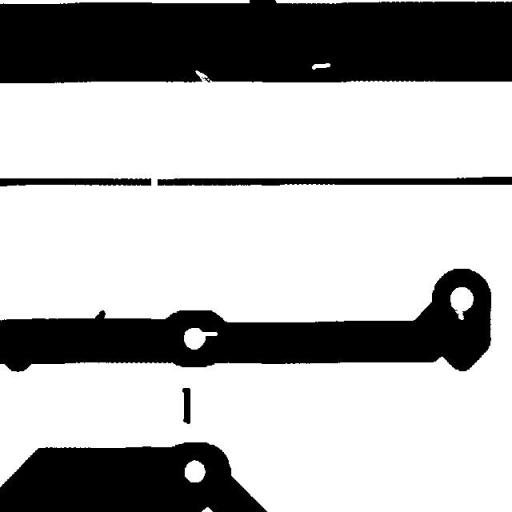copper: (174, 380, 198, 431)
mousebite: (187, 62, 219, 90), (443, 296, 471, 327), (193, 324, 225, 343)
open: (143, 168, 165, 198)
pin-hole: (304, 55, 338, 77)
spur: (87, 302, 113, 330)
